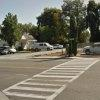Crosswalk: (13, 56, 89, 100)
